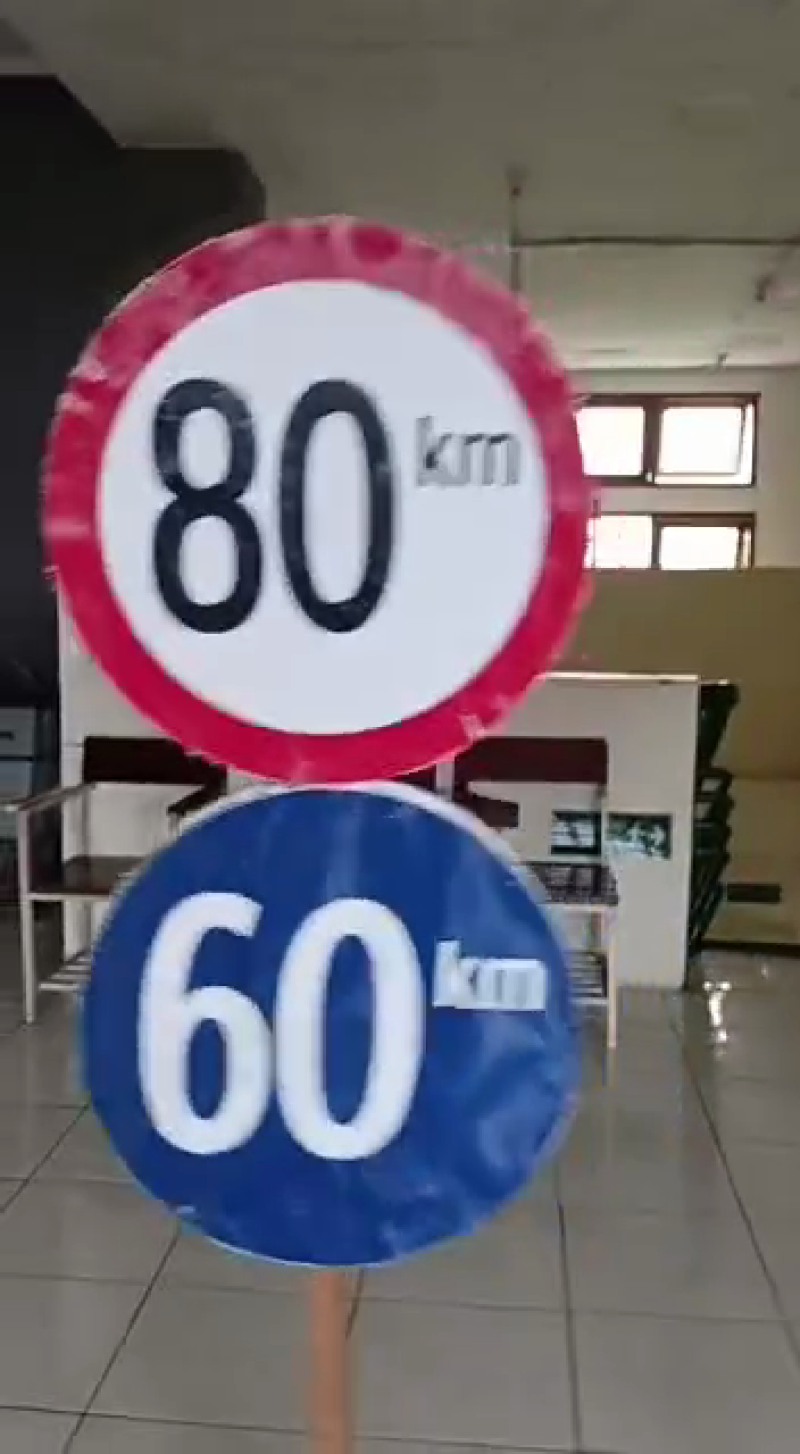batas maksimal 80kmperjam minimal 60kmperjam: (36, 212, 602, 1277)
